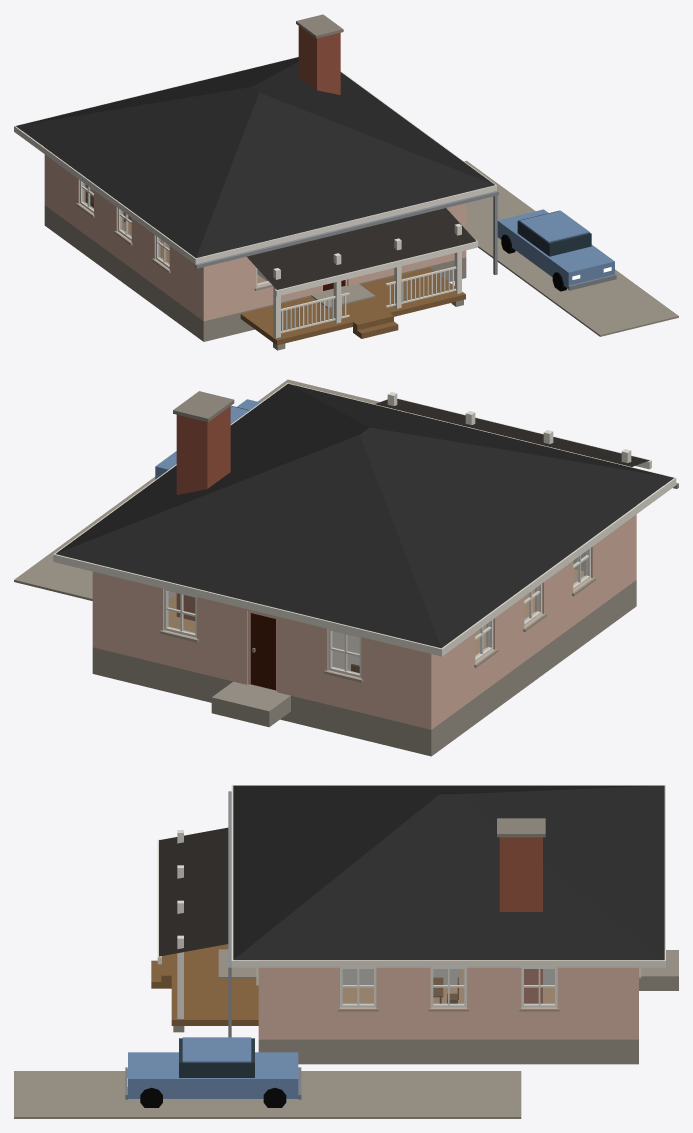
Rendered from bungalow_b.glb.
3 renders of one model, top to bottom at view 1: azimuth 30°, elevation 25°; view 2: azimuth 150°, elevation 25°; view 3: azimuth 270°, elevation 25°, orthographic. The views are drawn at different scales.
Parts seen in each view (by area): view 1: LOD0; view 2: LOD0, LEAF1; view 3: LOD0.
Boxes of the visible parts, left/top/right/bottom form: LOD0: left=14, top=14, right=678, bottom=350; LOD0: left=14, top=379, right=678, bottom=756; LEAF1: left=250, top=613, right=275, bottom=690; LOD0: left=14, top=785, right=678, bottom=1118.
Size of what is drawn, in the model's own units: 14.96 by 6.6 by 18.35.
